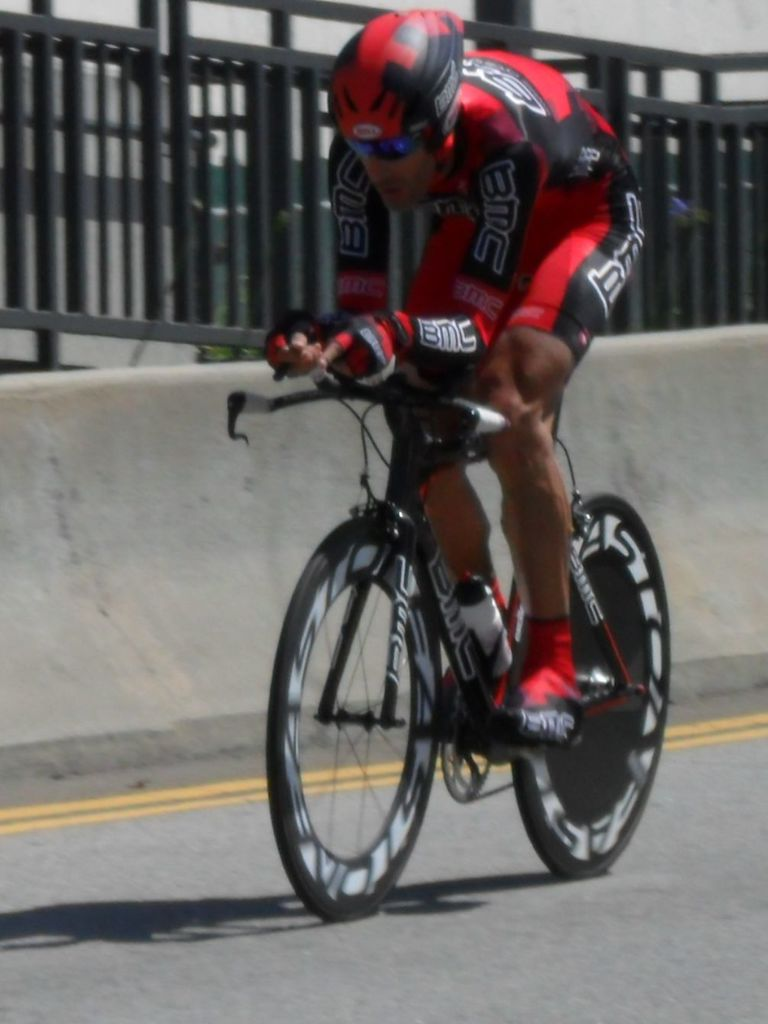Bike: (223, 304, 676, 928)
